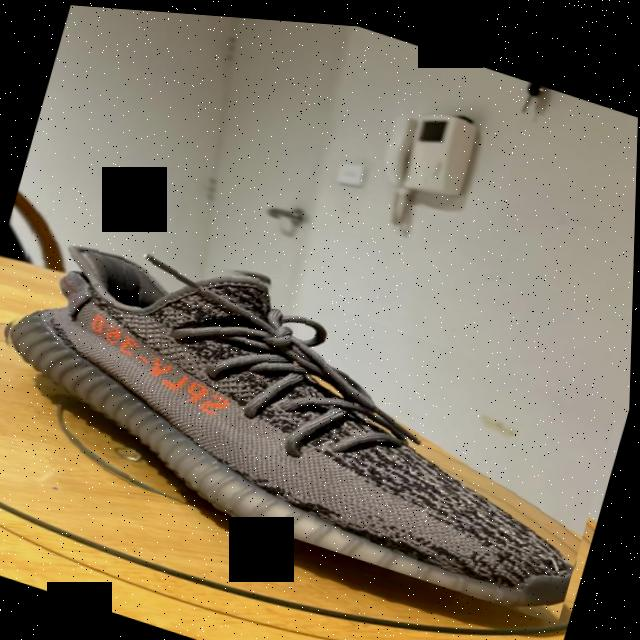shoe: (0, 196, 629, 618)
